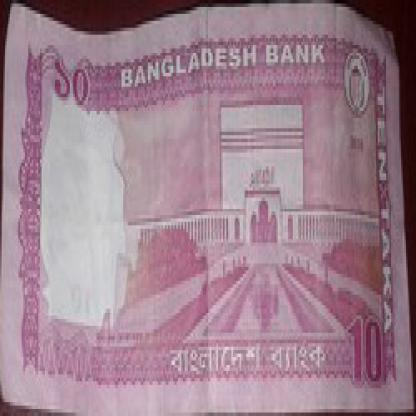Ten Taka: (340, 298, 386, 388), (43, 48, 100, 108)
